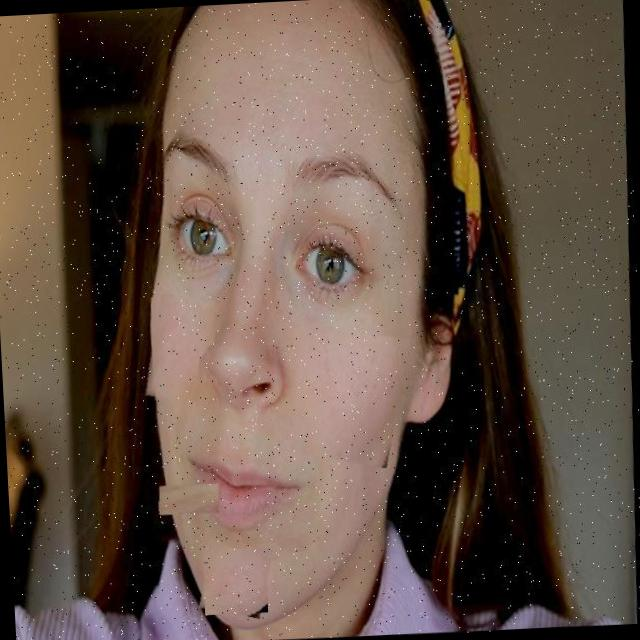redness: (292, 323, 413, 468), (147, 293, 217, 403), (203, 543, 276, 619), (266, 513, 322, 560), (162, 485, 221, 515)
